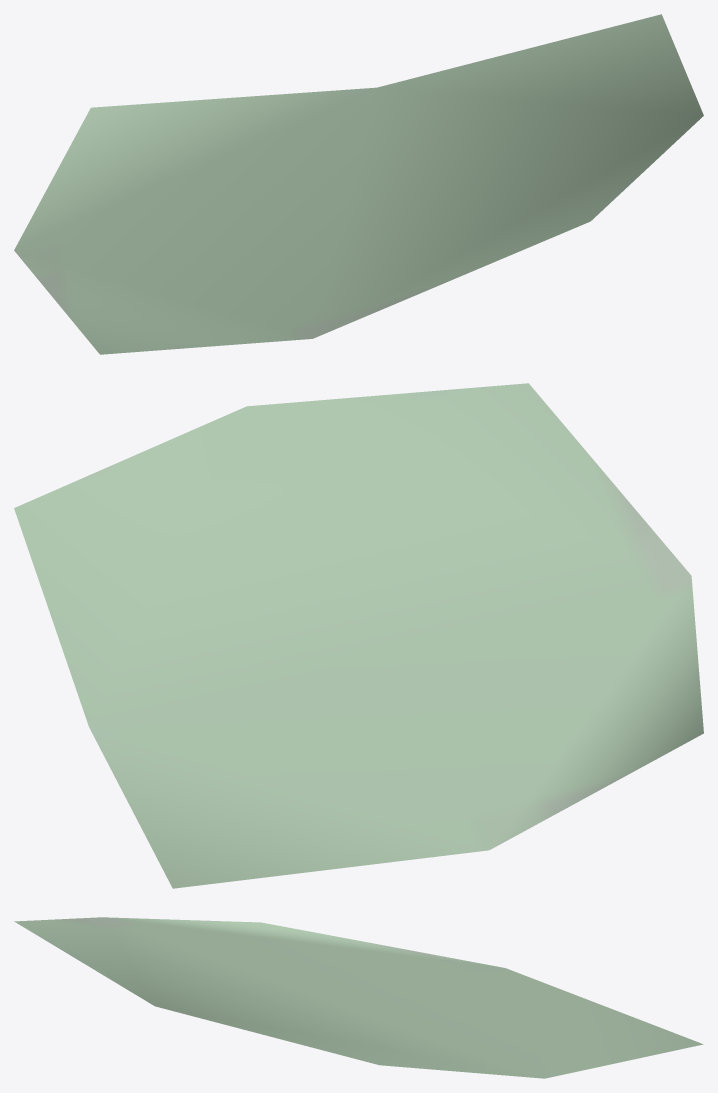
The model's file is TROLLHOLE02_HOLECAP162.fbx.
3 views of the same model, one above another, from view 1: azimuth 30°, elevation 25°; view 2: azimuth 150°, elevation 25°; view 3: azimuth 270°, elevation 25° (orthographic). The views are drawn at different scales.
Parts seen in each view (by area): view 1: TROLLHOLE02_HOLECAP162; view 2: TROLLHOLE02_HOLECAP162; view 3: TROLLHOLE02_HOLECAP162.
Part boxes in pixels (<box>): TROLLHOLE02_HOLECAP162: <box>14,14,703,354</box>; TROLLHOLE02_HOLECAP162: <box>14,383,703,888</box>; TROLLHOLE02_HOLECAP162: <box>14,917,703,1078</box>.
Bounding box in the file's own units: 35793 × 10188 × 42225.
1 material, 1 textured.
